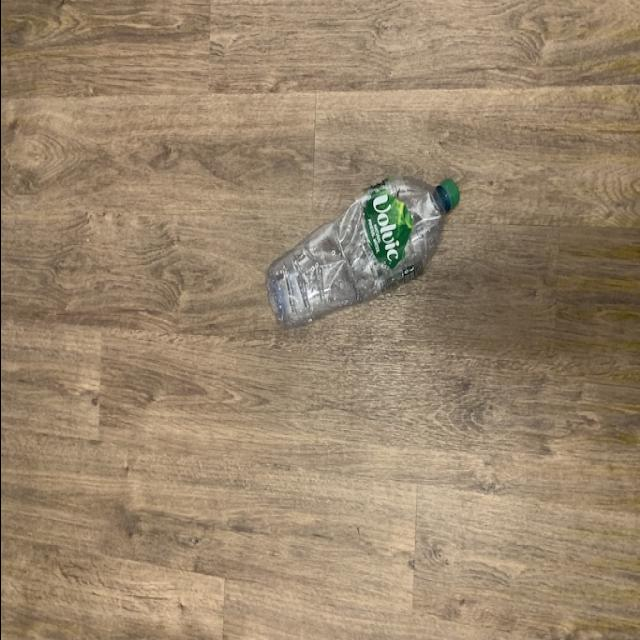litter: (260, 171, 460, 335)
